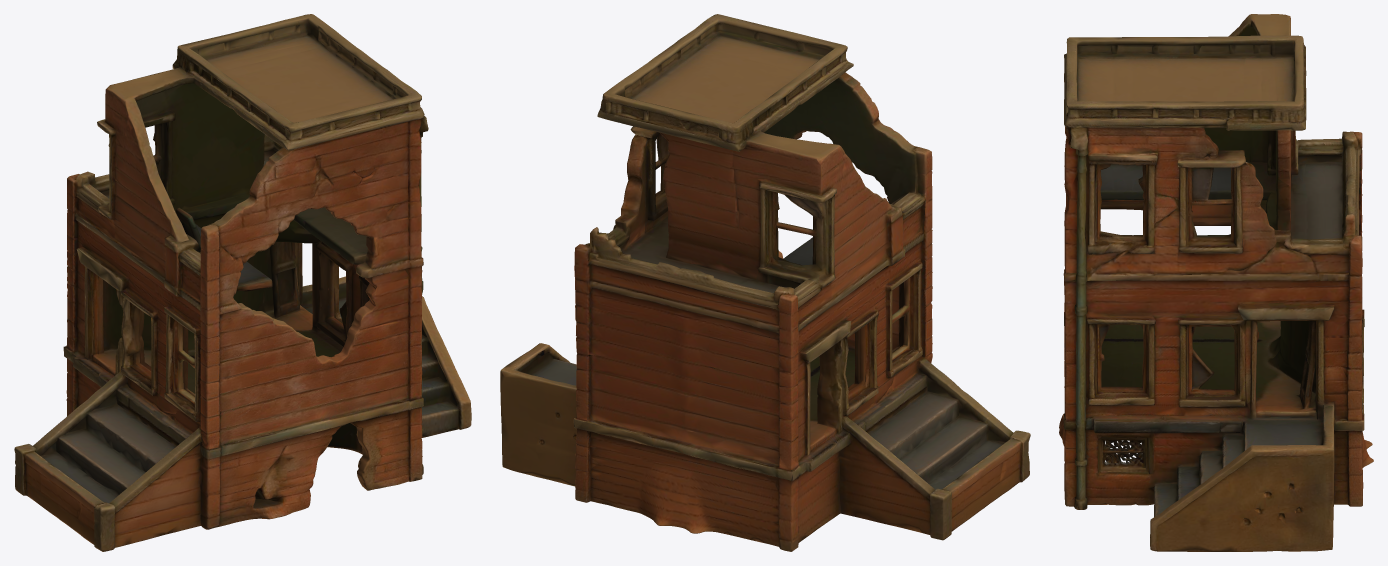
File: buildingdmg3d1.glb
The picture shows the model from 3 angles, left to right: view 1: azimuth 30°, elevation 25°; view 2: azimuth 150°, elevation 25°; view 3: azimuth 270°, elevation 25°; orthographic projection. The views are drawn at different scales.
Visible parts, largest first — view 1: tripo_node_a69ced31-8f03-4f19-8d5e-7e8fce5f275b; view 2: tripo_node_a69ced31-8f03-4f19-8d5e-7e8fce5f275b; view 3: tripo_node_a69ced31-8f03-4f19-8d5e-7e8fce5f275b.
Part boxes in pixels (box(x1,y1,x2,y2)): tripo_node_a69ced31-8f03-4f19-8d5e-7e8fce5f275b: box(14, 14, 471, 551); tripo_node_a69ced31-8f03-4f19-8d5e-7e8fce5f275b: box(500, 14, 1030, 551); tripo_node_a69ced31-8f03-4f19-8d5e-7e8fce5f275b: box(1059, 14, 1373, 551).
Size of the model in its own units: 1 by 0.9006 by 0.6372.
1 material, 1 textured.
